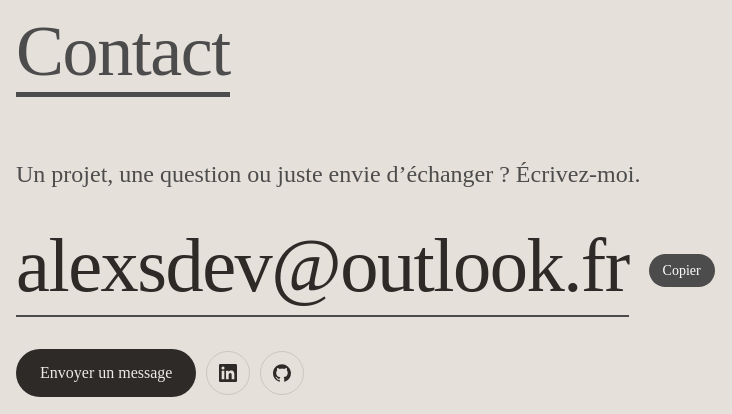
Test case: Contact component › copie l'email dans le presse-papier
Click the button "alexsdev@outlook.fr Copier".
click(365, 270)  # box [16,224,715,316]
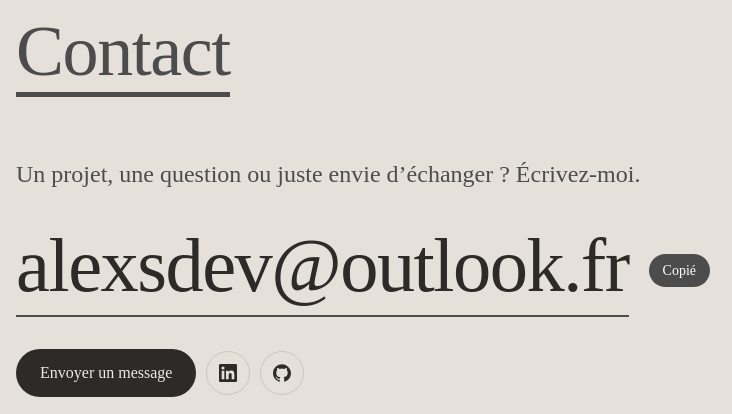
Expected: the text "Copié" is shown, [649,254,710,287]
